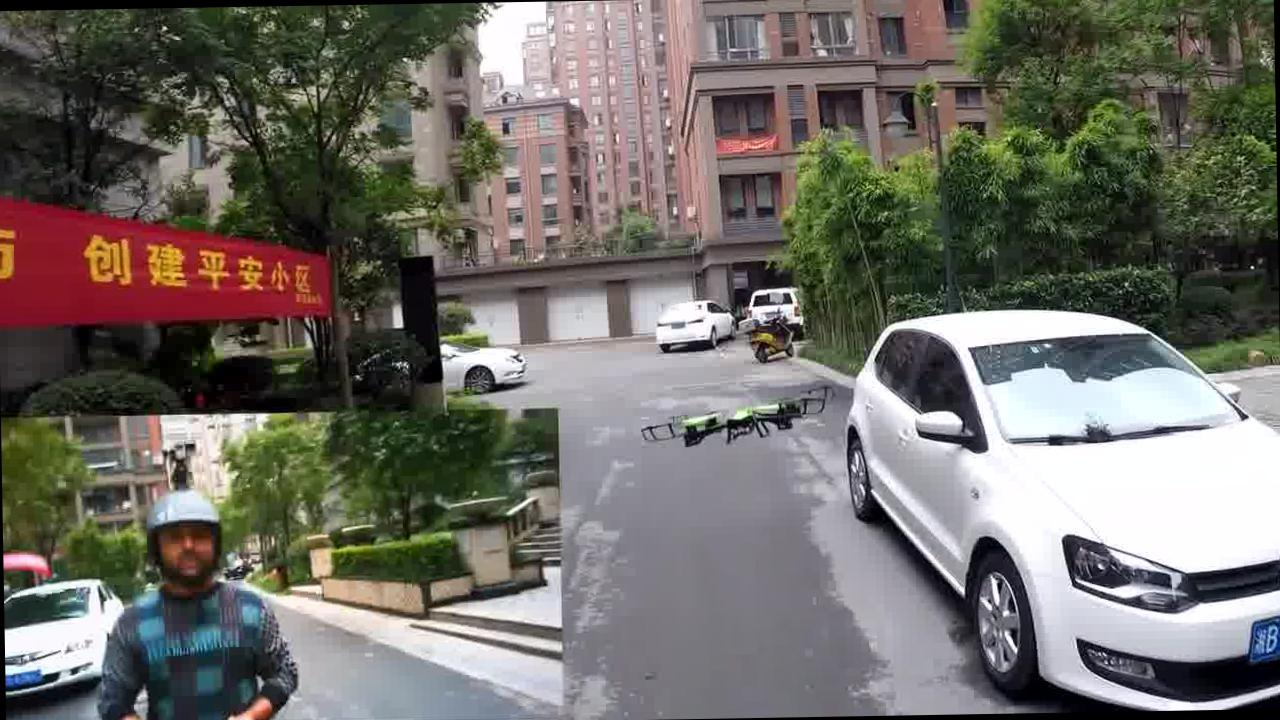drone: (642, 365, 834, 454)
